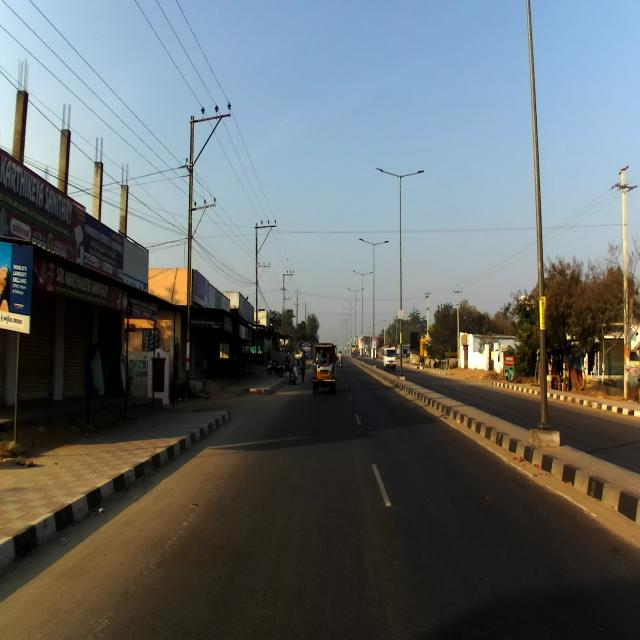car ahead at: (311, 342, 341, 397)
electric pole ahead at: (184, 95, 201, 398)
